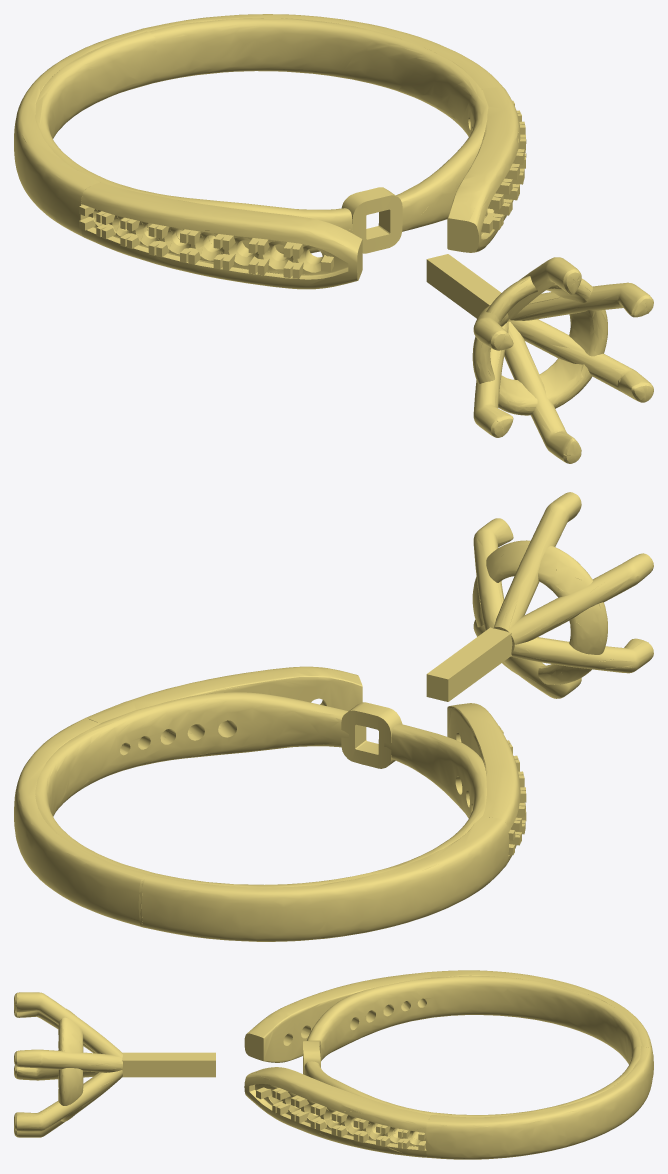
The picture shows the model from 3 angles, top to bottom: view 1: azimuth 30°, elevation 25°; view 2: azimuth 150°, elevation 25°; view 3: azimuth 270°, elevation 25°; orthographic projection. The views are drawn at different scales.
Visible parts, largest first — view 1: lr-0038; view 2: lr-0038; view 3: lr-0038.
Part boxes in pixels (x1,y1,x2,y2): lr-0038: (14, 14, 653, 463); lr-0038: (14, 492, 653, 941); lr-0038: (14, 970, 653, 1159).
Size of the model in its own units: 0.584 by 0.2477 by 1.
